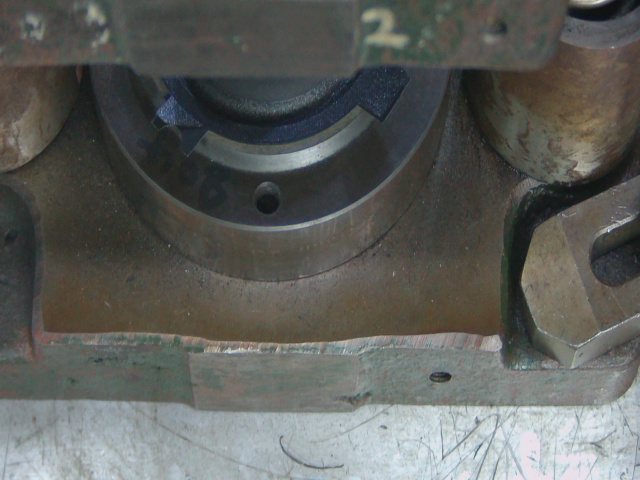NG: (153, 96, 217, 164)
